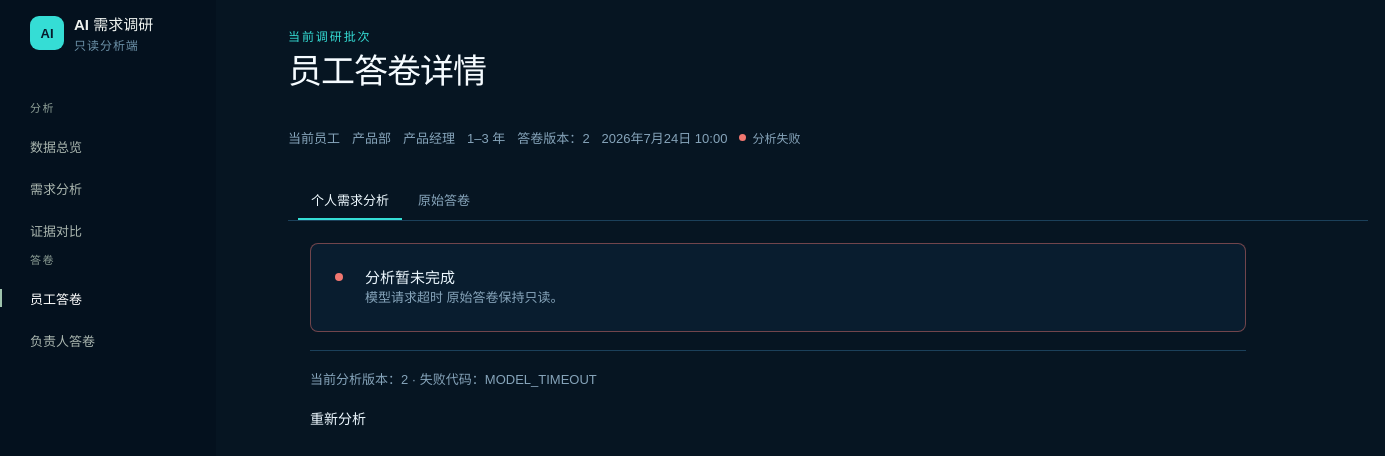
Test: accepted 后连续两次读取异常会停止并展示同步失败提示
Click the button "重新分析" at [338, 418], box [310,396,366,440]
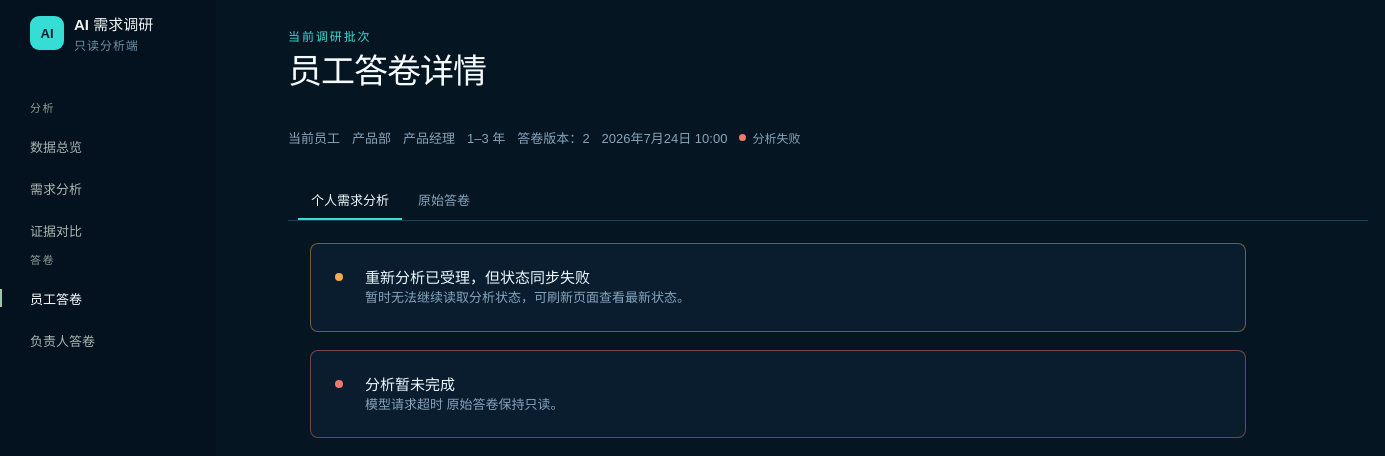
Now the heading "重新分析已受理，但状态同步失败" is shown, box [365,269,590,286]
Now the text "暂时无法继续读取分析状态，可刷新页面查看最新状态。" is shown, box [365,290,690,305]
